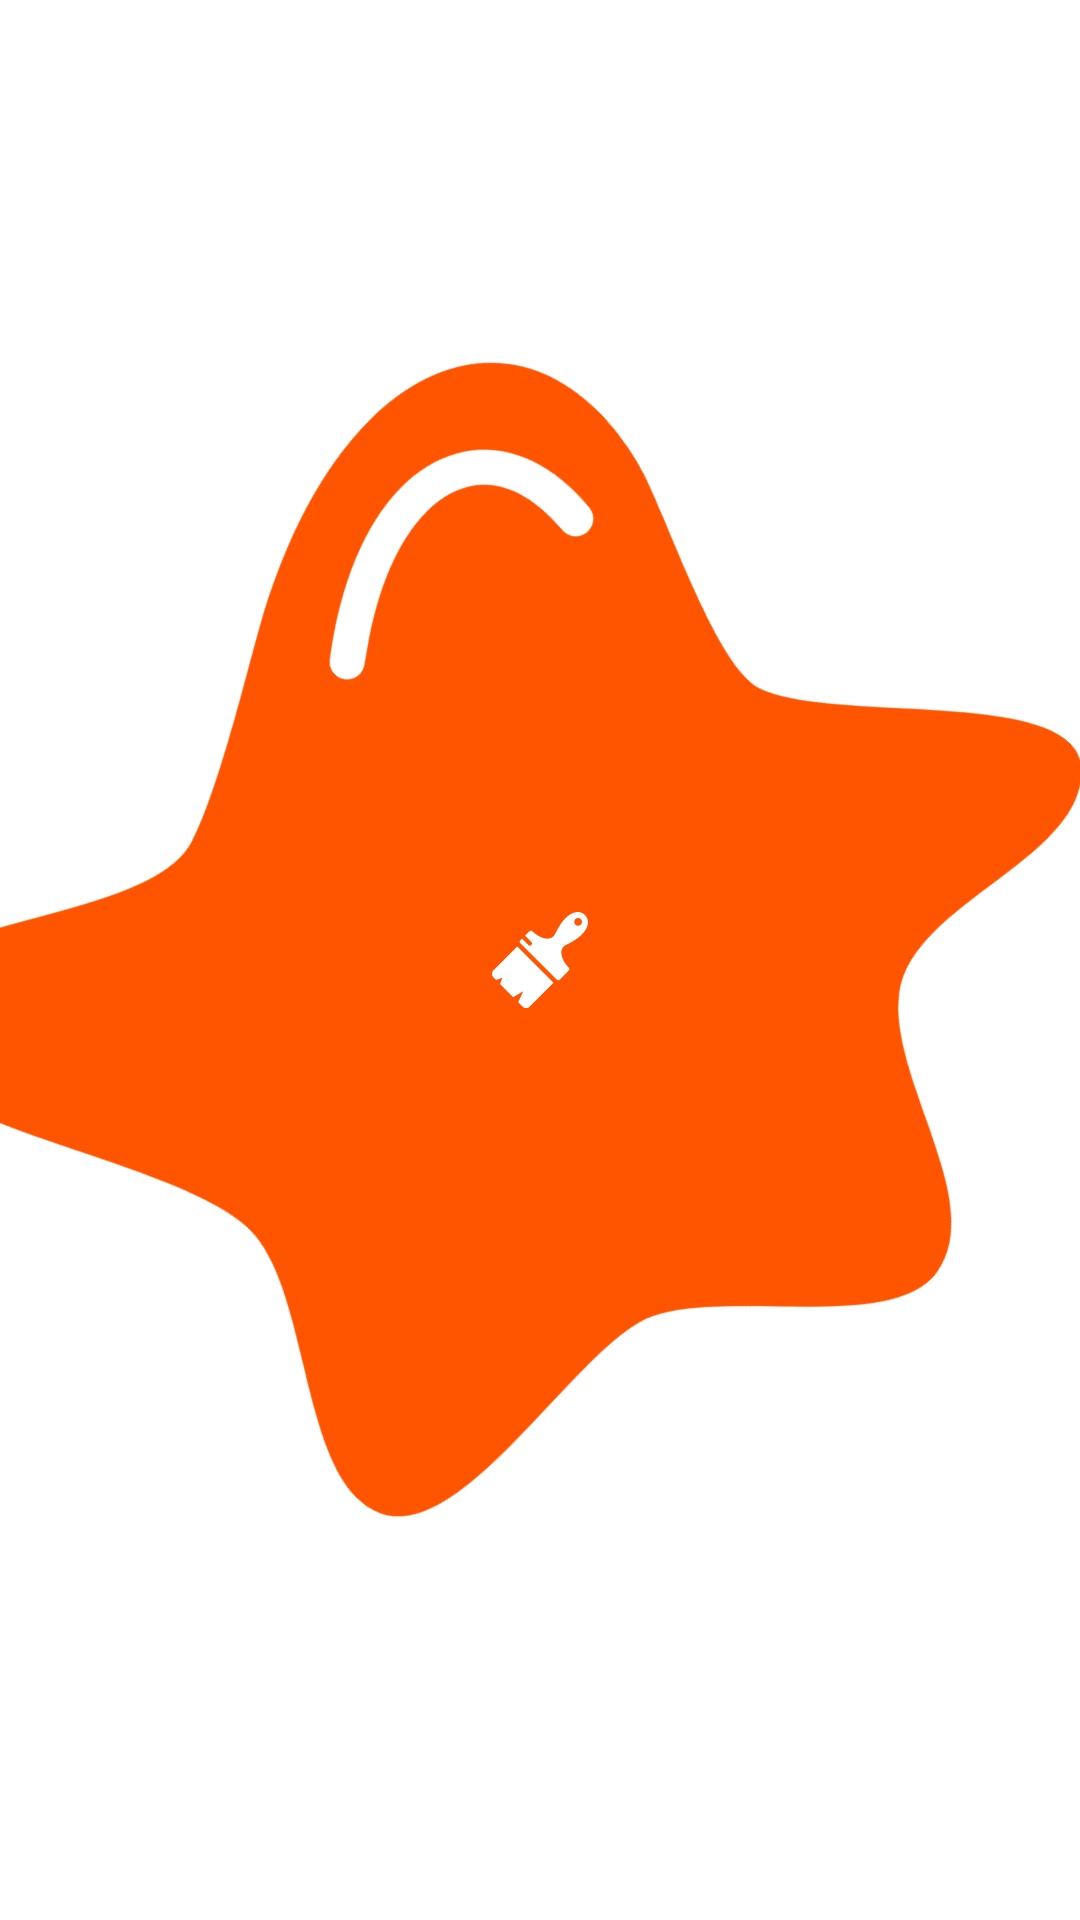

Icons on this 1080x1920 Android screen, each with the point to tap as point (x, y):
paintbrush: point (540, 960)
